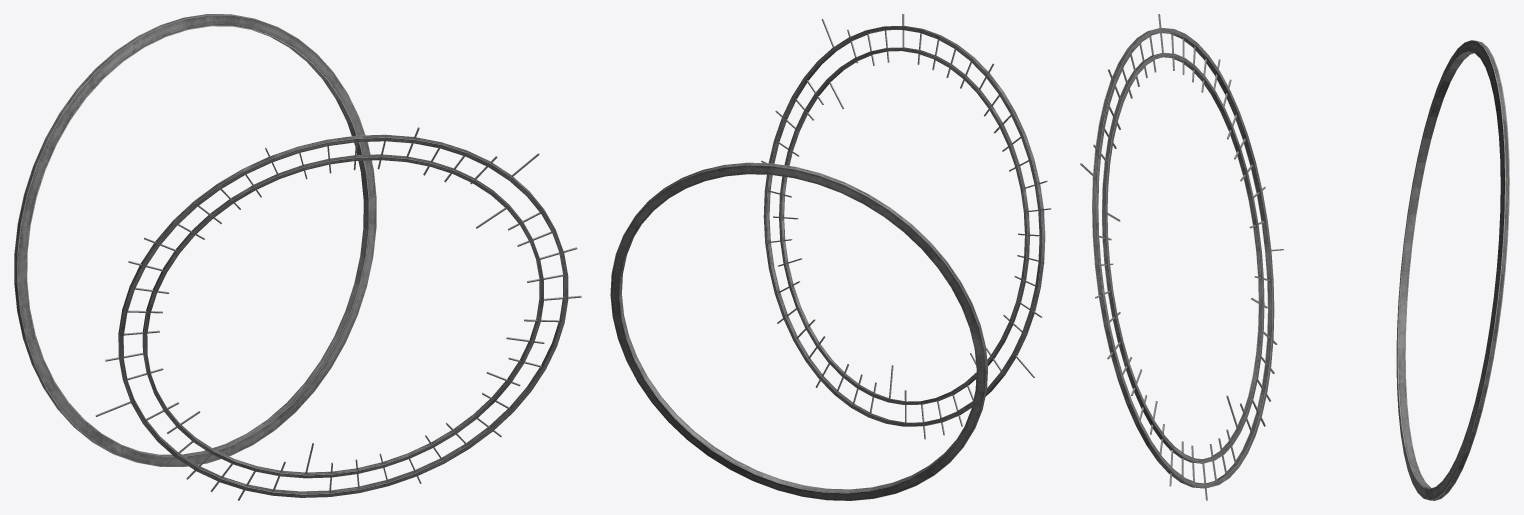
The model's file is space_debris_04.obj.
3 views of the same model, side by side, from view 1: azimuth 30°, elevation 25°; view 2: azimuth 150°, elevation 25°; view 3: azimuth 270°, elevation 25° (orthographic). The views are drawn at different scales.
Visible parts, largest first — view 1: st_space_debris_013.mo_space_debris_04; view 2: st_space_debris_013.mo_space_debris_04; view 3: st_space_debris_013.mo_space_debris_04.
Part boxes in pixels (x1,y1,x2,y2): st_space_debris_013.mo_space_debris_04: [14, 14, 581, 500]; st_space_debris_013.mo_space_debris_04: [610, 14, 1051, 500]; st_space_debris_013.mo_space_debris_04: [1080, 14, 1509, 500].
Bounding box in the file's own units: 17.96 × 17.97 × 16.15.
1 material, 1 textured.
